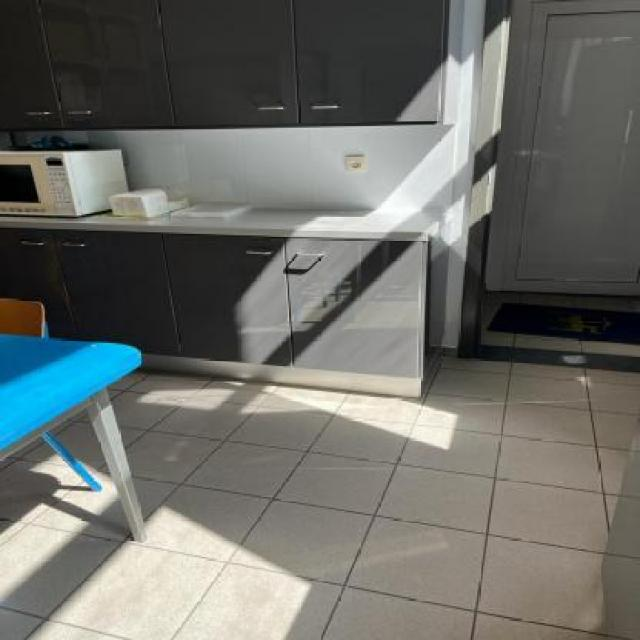Floor: (1, 286, 639, 640)
